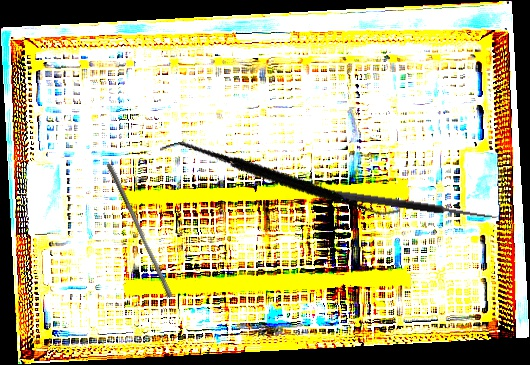Hook Surgical: (306, 176, 500, 223)
Pusher: (101, 162, 178, 299)
Spatula Surgical: (159, 94, 401, 266)
